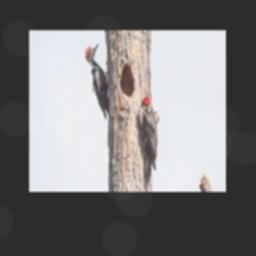Woodpecker: (85, 42, 109, 119), (139, 96, 158, 192)
